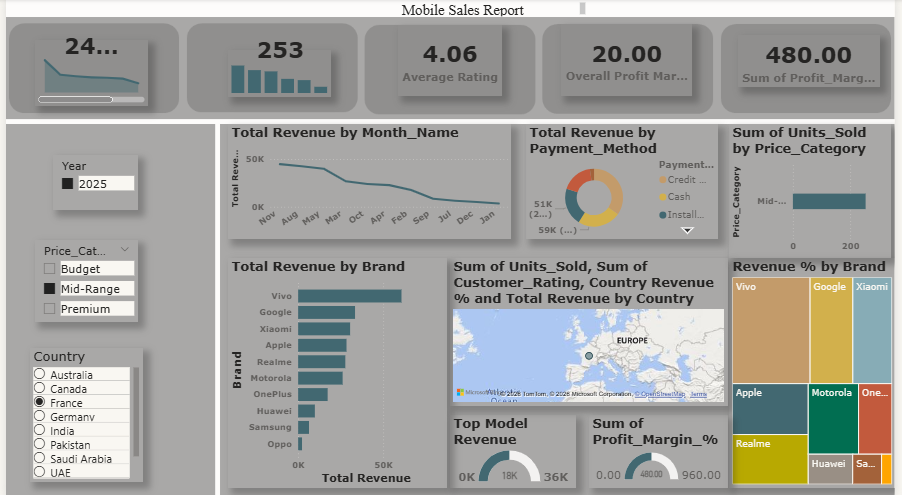

Layout of this report page (visuals, bound fields, positions):
{"tool":"powerbi","page":{"name":"Page 1","canvas":[1280,720],"ordinal":0},"visuals":[{"type":"card","fields":{"Values":["Mobile_Sales.Total Revenue"]},"box":[71.5,30.4,101.9,73.3],"z":0},{"type":"areaChart","fields":{"Category":["Mobile_Sales.Brand"],"Y":["Mobile_Sales.Total Revenue"]},"box":[41.1,59,162.7,94.7],"z":1000},{"type":"card","fields":{"Values":["Mobile_Sales.Total Units Sold"]},"box":[341.5,42.9,107.3,60.8],"z":2000},{"type":"lineStackedColumnComboChart","fields":{"Category":["Mobile_Sales.Color"],"Y":["Mobile_Sales.Total Units Sold"]},"box":[320,73.3,148.4,67.9],"z":3000},{"type":"card","fields":{"Values":["Mobile_Sales.Average Rating"]},"box":[564.9,37.5,150.2,101.9],"z":4000},{"type":"card","fields":{"Values":["Mobile_Sales.Overall Profit Margin %"]},"box":[799.1,35.8,189.5,103.7],"z":5000},{"type":"card","fields":{"Values":["Sum(Mobile_Sales.Profit_Margin_%)"]},"box":[1054.7,51.8,203.8,75.1],"z":6000},{"type":"lineChart","fields":{"Category":["Mobile_Sales.Month_Name"],"Y":["Mobile_Sales.Total Revenue"]},"box":[320,180.6,407.6,166.3],"z":7000},{"type":"barChart","fields":{"Category":["Mobile_Sales.Brand"],"Y":["Mobile_Sales.Total Revenue"]},"box":[320,373.6,316.4,330.7],"z":8000},{"type":"donutChart","fields":{"Category":["Mobile_Sales.Payment_Method"],"Y":["Mobile_Sales.Total Revenue"]},"box":[749.1,180.6,277.1,166.3],"z":9000},{"type":"map","fields":{"Category":["Mobile_Sales.Country"],"Size":["Sum(Mobile_Sales.Units_Sold)"]},"box":[640,373.6,400.4,212.7],"z":10000},{"type":"clusteredBarChart","fields":{"Category":["Mobile_Sales.Price_Category"],"Y":["Sum(Mobile_Sales.Units_Sold)"]},"box":[1040.4,180.6,234.2,193.1],"z":11000},{"type":"treemap","fields":{"Group":["Mobile_Sales.Brand"],"Values":["Mobile_Sales.Revenue %"]},"box":[1040.4,373.6,239.6,330.7],"z":12000},{"type":"listSlicer","fields":{"Values":["Mobile_Sales.Country"]},"box":[34,502.3,162.7,193.1],"z":13000},{"type":"slicer","fields":{"Values":["Calendar.Year"]},"box":[67.9,225.3,121.6,78.7],"z":14000},{"type":"slicer","fields":{"Values":["Mobile_Sales.Price_Category"]},"box":[41.1,346.8,148.4,118],"z":14001},{"type":"gauge","fields":{"Y":["Mobile_Sales.Top Model Revenue"]},"box":[640,598.9,182.3,105.5],"z":14002},{"type":"gauge","fields":{"Y":["Sum(Mobile_Sales.Profit_Margin_%)"]},"box":[840.2,598.9,200.2,105.5],"z":14003},{"type":"textbox","box":[485.3,0,354.2,30.2],"z":14004}]}

Visuals, with their boxes in screenshot pixels (x1, y1, x2, y2), scaled from the page's 1280x720 canvas onto the 902x495 screenshot:
card - Mobile_Sales.Total Revenue: 50:21:122:71
areaChart - Mobile_Sales.Brand x Mobile_Sales.Total Revenue: 29:41:144:106
card - Mobile_Sales.Total Units Sold: 241:29:316:71
lineStackedColumnComboChart - Mobile_Sales.Color x Mobile_Sales.Total Units Sold: 226:50:330:97
card - Mobile_Sales.Average Rating: 398:26:504:96
card - Mobile_Sales.Overall Profit Margin %: 563:25:697:96
card - Sum(Mobile_Sales.Profit_Margin_%): 743:36:887:87
lineChart - Mobile_Sales.Month_Name x Mobile_Sales.Total Revenue: 226:124:513:238
barChart - Mobile_Sales.Brand x Mobile_Sales.Total Revenue: 226:257:448:484
donutChart - Mobile_Sales.Payment_Method x Mobile_Sales.Total Revenue: 528:124:723:238
map - Mobile_Sales.Country x Sum(Mobile_Sales.Units_Sold): 451:257:733:403
clusteredBarChart - Mobile_Sales.Price_Category x Sum(Mobile_Sales.Units_Sold): 733:124:898:257
treemap - Mobile_Sales.Brand x Mobile_Sales.Revenue %: 733:257:901:484
listSlicer - Mobile_Sales.Country: 24:345:139:478
slicer - Calendar.Year: 48:155:134:209
slicer - Mobile_Sales.Price_Category: 29:238:134:320
gauge - Mobile_Sales.Top Model Revenue: 451:412:579:484
gauge - Sum(Mobile_Sales.Profit_Margin_%): 592:412:733:484
textbox: 342:0:592:21
